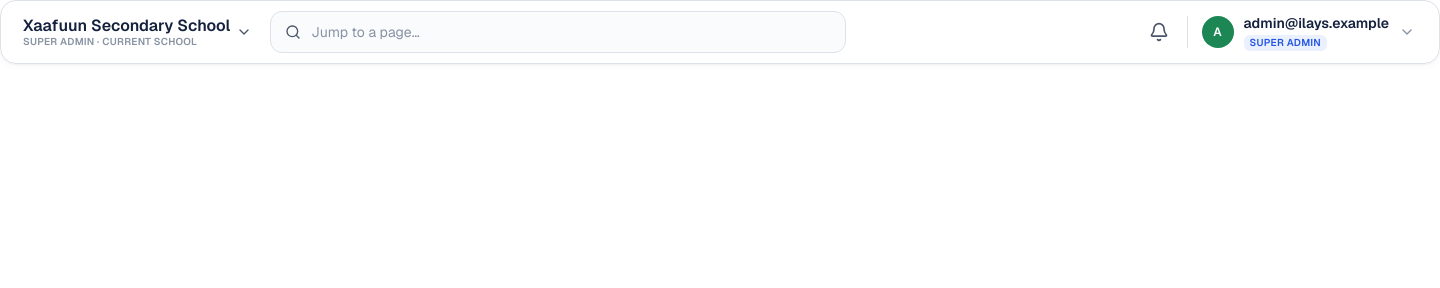
Test: Topbar — school switcher dropdown › shows every authorized school (from the schools prop — never fetched by Topbar itself) with real counts and a type badge
Click the button with aria-label "Switch school context" at (138, 32), box [17,12,258,52]
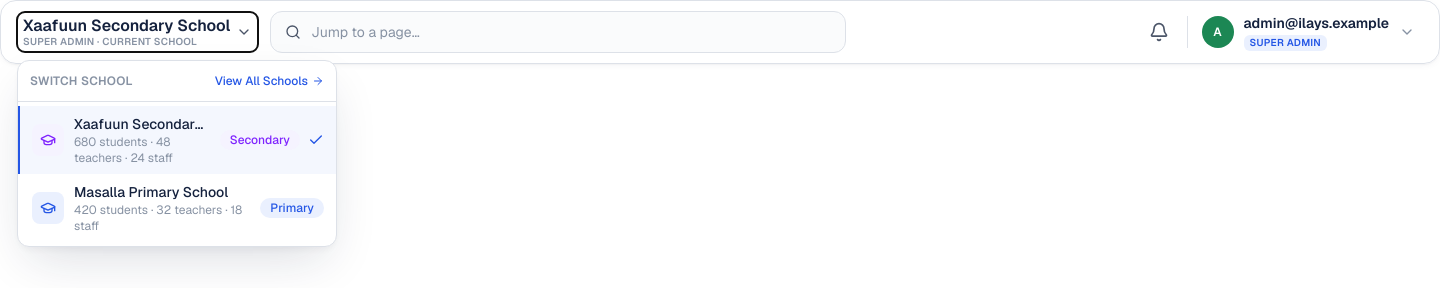
Now the text "680 students · 48 teachers · 24 staff" is shown, box [74,134,173,166]
Now the text "Masalla Primary School" is shown, box [74,182,250,202]
Now the text "Secondary" is shown, box [220,130,300,150]
